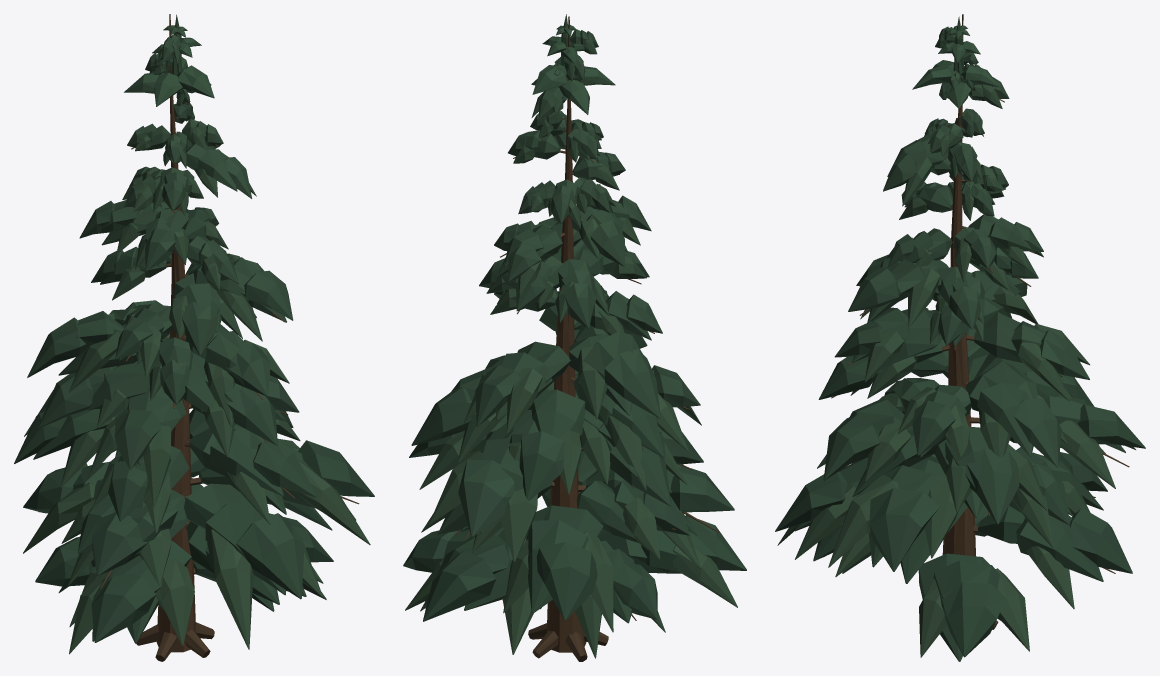
File: shore-pine-mature.glb
3 renders of one model, left to right at view 1: azimuth 30°, elevation 25°; view 2: azimuth 150°, elevation 25°; view 3: azimuth 270°, elevation 25°, orthographic. The views are drawn at different scales.
Parts seen in each view (by area): view 1: mature_foliage, mature_trunk; view 2: mature_foliage, mature_trunk; view 3: mature_foliage, mature_trunk.
Boxes of the visible parts, x1,y1,x2,y2 form: mature_foliage: (14, 14, 374, 654); mature_trunk: (39, 14, 359, 661); mature_foliage: (403, 14, 746, 658); mature_trunk: (454, 16, 719, 661); mature_foliage: (775, 16, 1145, 661); mature_trunk: (831, 14, 1129, 629).
Size of the model in its own units: 4.34 by 8.64 by 4.77.
